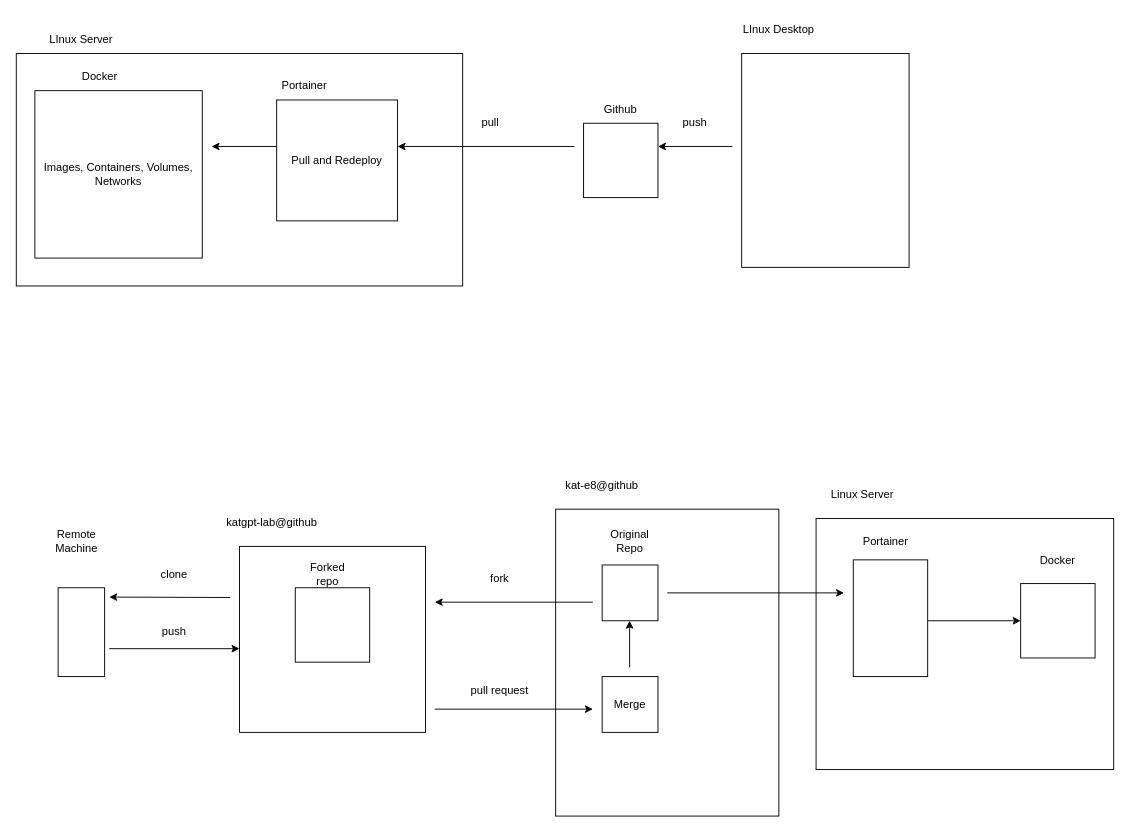
This 1130x832 diagram has some shape labels left out. Here are the shapes that lost their labels. From the top down, the box of each, then its label:
(741, 53, 909, 267): Git, VSC
(57, 587, 105, 677): git
